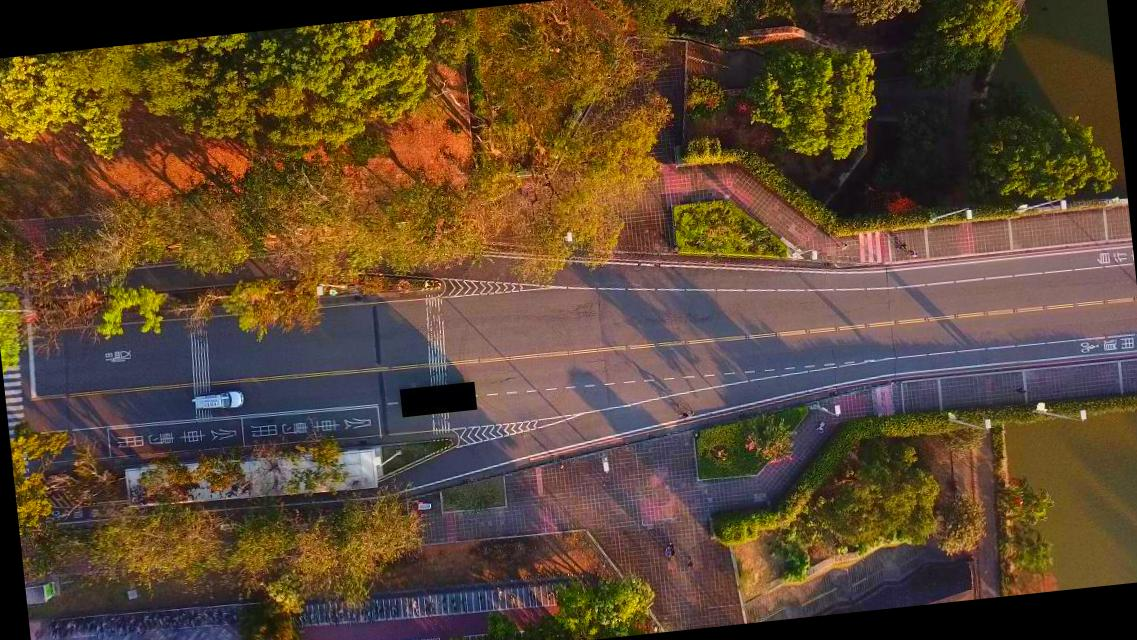vehicle: (190, 388, 244, 412)
